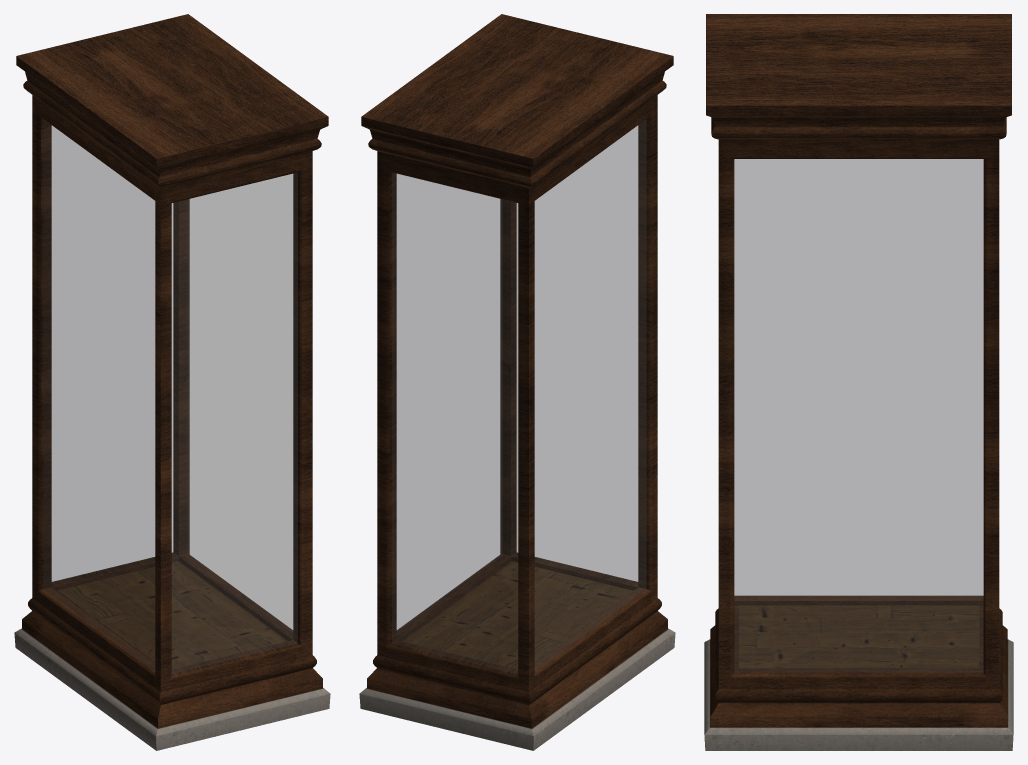
File: ShowCaseMedium.glb
The picture shows the model from 3 angles, left to right: view 1: azimuth 30°, elevation 25°; view 2: azimuth 150°, elevation 25°; view 3: azimuth 270°, elevation 25°; orthographic projection. The views are drawn at different scales.
Parts seen in each view (by area): view 1: Glass.ShowcaseMedium_0, ShowcaseMittel_5; view 2: Glass.ShowcaseMedium_0, ShowcaseMittel_5; view 3: Glass.ShowcaseMedium_0, ShowcaseMittel_5.
Part boxes in pixels (x1=…): Glass.ShowcaseMedium_0: x1=43, y1=120, x2=297, y2=673; ShowcaseMittel_5: x1=14, y1=14, x2=330, y2=750; Glass.ShowcaseMedium_0: x1=392, y1=120, x2=646, y2=673; ShowcaseMittel_5: x1=359, y1=14, x2=675, y2=750; Glass.ShowcaseMedium_0: x1=734, y1=159, x2=983, y2=672; ShowcaseMittel_5: x1=704, y1=14, x2=1013, y2=750.
Bounding box in the file's own units: 0.7533 × 2.44 × 1.06.
Materials: 2 (1 with a texture image).
